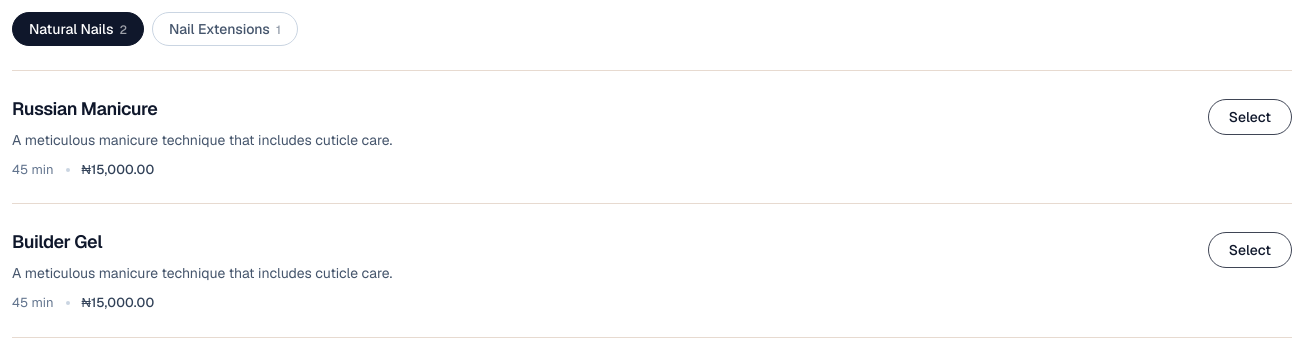
ServiceCatalogue — category-ready (backend `category` present) › renders one real tab per category and filters the rows on selection
The image size is (1292, 355).
Expected: the number of list items is 2, [12,71,1291,204]; [12,204,1291,338]
Click the tab "Nail Extensions1". click: (225,29)
box: [152,12,298,46]
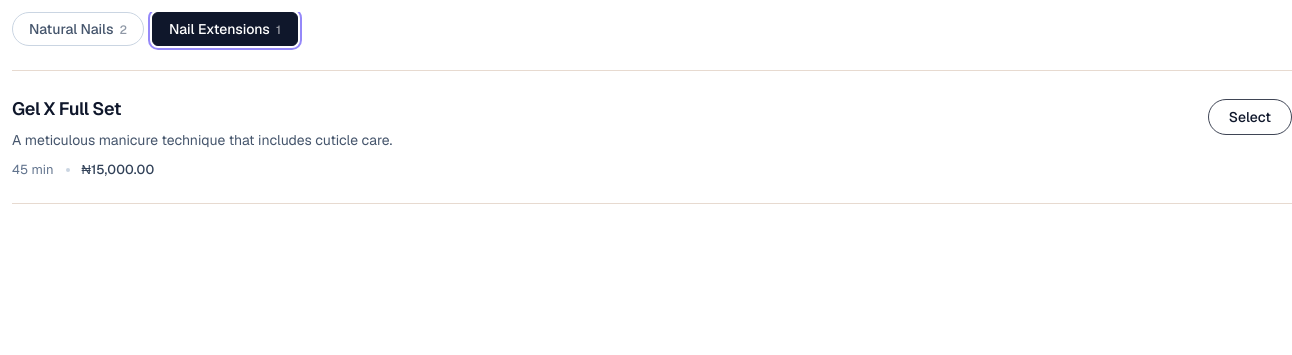
Now the number of list items is 1, box [12,71,1291,204]
Now the heading "Gel X Full Set" is shown, box [12,97,121,120]
